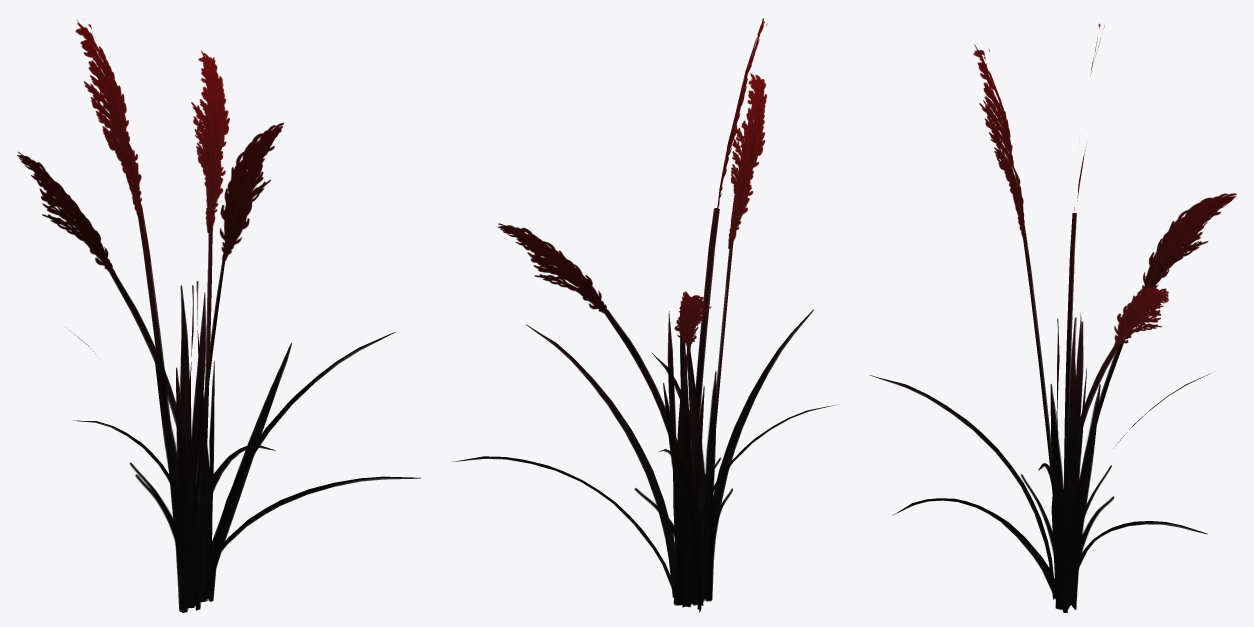
File: reed3.glb
The picture shows the model from 3 angles, left to right: view 1: azimuth 30°, elevation 25°; view 2: azimuth 150°, elevation 25°; view 3: azimuth 270°, elevation 25°; orthographic projection. The views are drawn at different scales.
Parts seen in each view (by area): view 1: Mesh_0.003; view 2: Mesh_0.003; view 3: Mesh_0.003.
Part boxes in pixels (bbox=[...]): Mesh_0.003: bbox=[17, 20, 420, 612]; Mesh_0.003: bbox=[453, 18, 836, 612]; Mesh_0.003: bbox=[869, 24, 1236, 612].
Size of the model in its own units: 93.92 by 164 by 99.35.
Materials: 1 (1 with a texture image).
